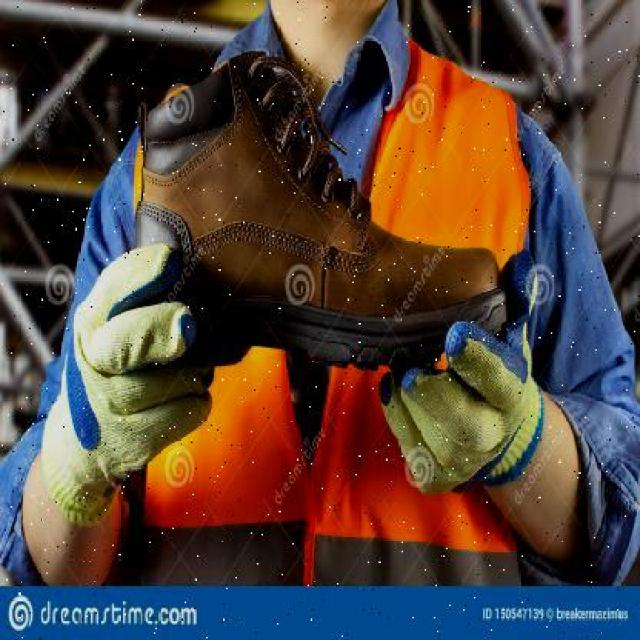shoes: (130, 62, 502, 376)
